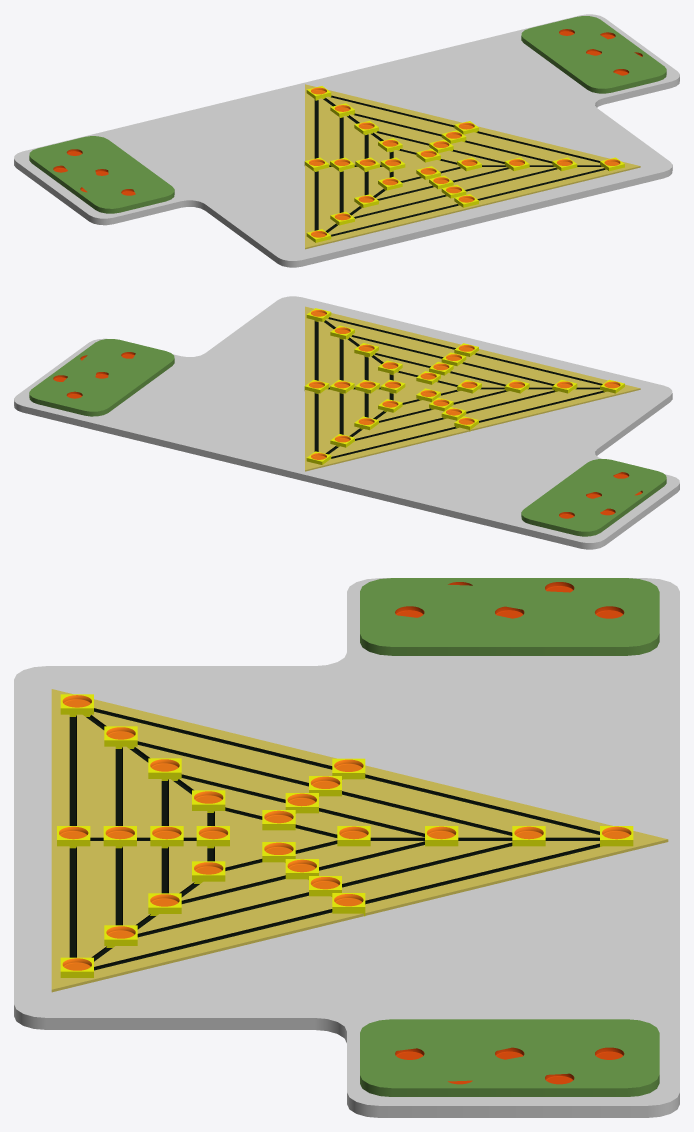
The model's file is BoardAllRough.fbx.
3 renders of one model, top to bottom at view 1: azimuth 30°, elevation 25°; view 2: azimuth 150°, elevation 25°; view 3: azimuth 270°, elevation 25°, orthographic. The views are drawn at different scales.
Parts seen in each view (by area): view 1: BoardUnder, triangleField, PieceWaitZone; view 2: BoardUnder, triangleField, PieceWaitZone; view 3: BoardUnder, triangleField, PieceWaitZone.
Boxes of the visible parts, x1=… form: BoardUnder: x1=14, y1=14, x2=679, y2=267; triangleField: x1=305, y1=84, x2=640, y2=249; PieceWaitZone: x1=29, y1=16, x2=666, y2=213; BoardUnder: x1=14, y1=296, x2=679, y2=549; triangleField: x1=305, y1=306, x2=640, y2=471; PieceWaitZone: x1=29, y1=339, x2=666, y2=536; BoardUnder: x1=14, y1=578, x2=679, y2=1117; triangleField: x1=51, y1=689, x2=668, y2=992; PieceWaitZone: x1=360, y1=578, x2=659, y2=1096.
Bounding box in the file's own units: 3750 × 70 × 2000.
